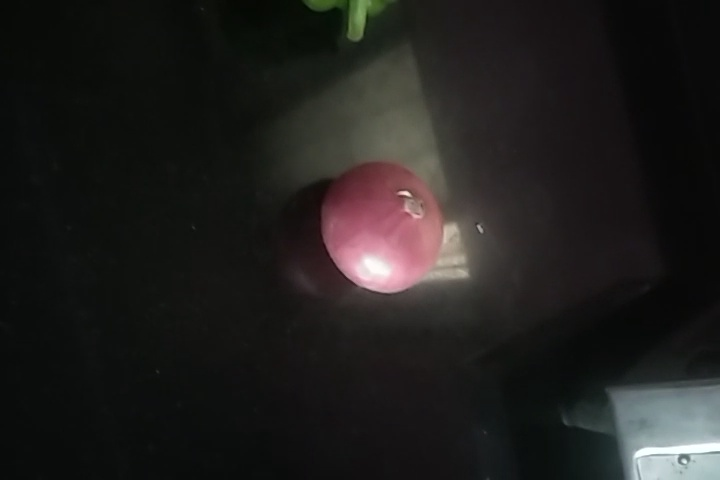onion: (309, 170, 436, 298)
